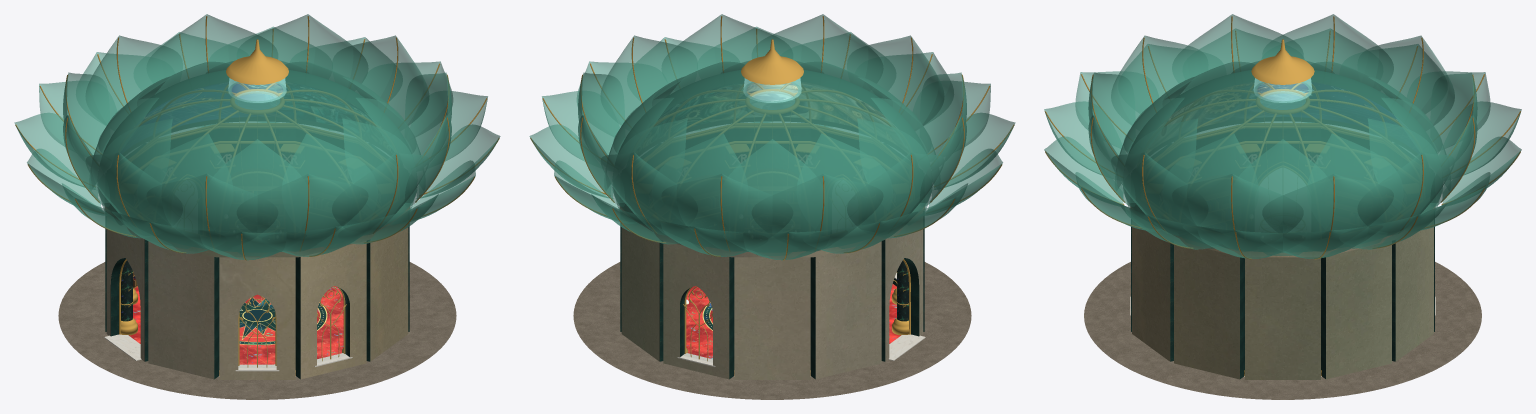
File: library-fresco5.glb
The picture shows the model from 3 angles, left to right: view 1: azimuth 30°, elevation 25°; view 2: azimuth 150°, elevation 25°; view 3: azimuth 270°, elevation 25°; orthographic projection.
Parts seen in each view (by area): view 1: library_LotusGlass, library_MeshStandardMaterial (×7), library_LotusHeart, library_InlayFloor, library_MeshPhysicalMaterial (×2), library_LibraryCompass, library_Labradorite; view 2: library_LotusGlass, library_MeshStandardMaterial (×7), library_LotusHeart, library_MeshPhysicalMaterial (×2), library_InlayFloor, library_Labradorite; view 3: library_LotusGlass, library_MeshStandardMaterial (×7), library_LotusHeart, library_MeshPhysicalMaterial.
Part boxes in pixels (x1=…): library_LotusGlass: x1=14, y1=14, x2=500, y2=260; library_MeshStandardMaterial (×7): x1=15, y1=16, x2=499, y2=399; library_LotusHeart: x1=97, y1=70, x2=417, y2=251; library_InlayFloor: x1=129, y1=286, x2=343, y2=364; library_MeshPhysicalMaterial (×2): x1=104, y1=78, x2=352, y2=371; library_LibraryCompass: x1=239, y1=294, x2=327, y2=345; library_Labradorite: x1=121, y1=152, x2=293, y2=321; library_LotusGlass: x1=529, y1=14, x2=1015, y2=260; library_MeshStandardMaterial (×7): x1=530, y1=16, x2=1014, y2=399; library_LotusHeart: x1=612, y1=70, x2=932, y2=251; library_MeshPhysicalMaterial (×2): x1=677, y1=78, x2=925, y2=366; library_InlayFloor: x1=686, y1=284, x2=900, y2=359; library_Labradorite: x1=736, y1=152, x2=908, y2=321; library_LotusGlass: x1=1044, y1=14, x2=1521, y2=258; library_MeshStandardMaterial (×7): x1=1045, y1=16, x2=1520, y2=399; library_LotusHeart: x1=1123, y1=70, x2=1442, y2=252; library_MeshPhysicalMaterial: x1=1253, y1=78, x2=1312, y2=103.
Size of the model in its own units: 21.85 by 13.93 by 21.85.
21 materials, 12 textured.
